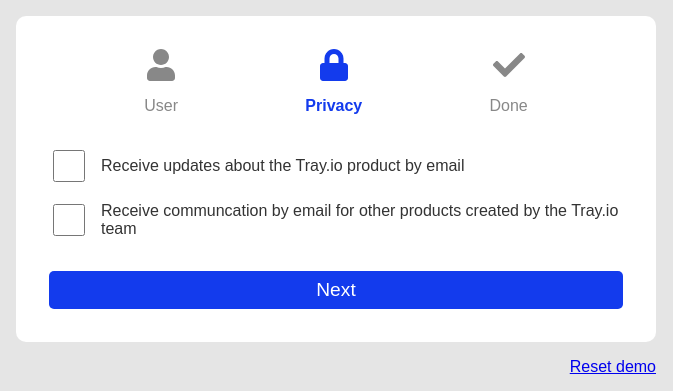
Test: navigation › navigates to Done page
The width and height of the screenshot is (673, 391).
Click the button with test id "custom-btn".
click(336, 290)  # box [49,271,623,309]
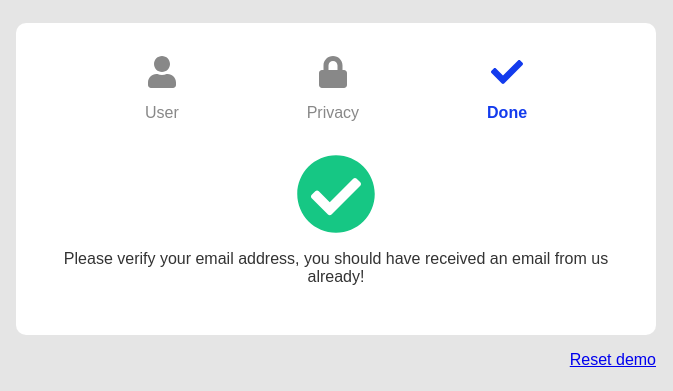
Now the element with test id "done-page" is shown, box [49,154,623,302]
